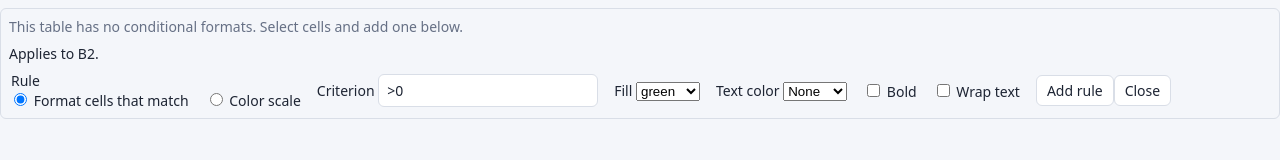
Scenario: ConditionalFormatsPanel › refuses a criterion rule that formats nothing
Select "None" in the dropdown named "Rule fill". click: coordinates (668, 91)
box: 636,82 -> 700,100
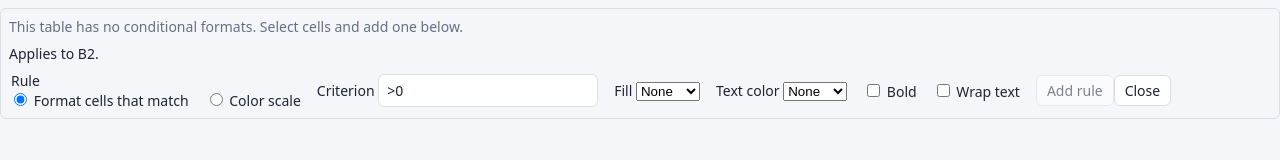
Expected: the submit button is disabled, 1036,75 -> 1114,106
